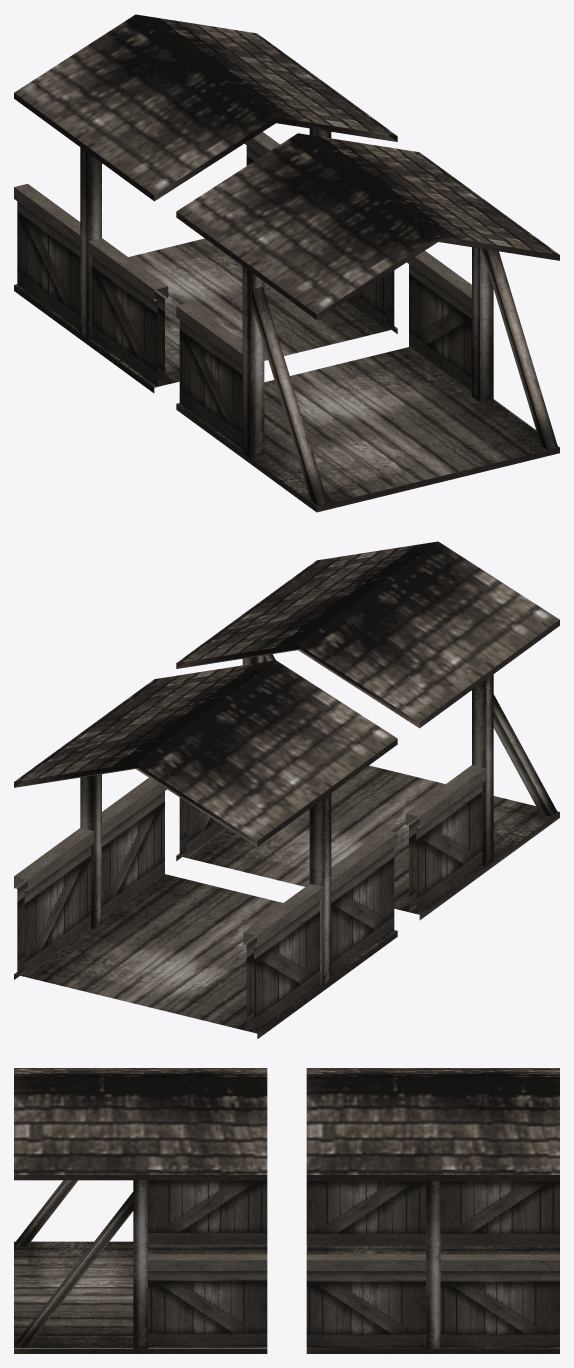
File: forsk.fbx
3 renders of one model, top to bottom at view 1: azimuth 30°, elevation 25°; view 2: azimuth 150°, elevation 25°; view 3: azimuth 270°, elevation 25°, orthographic. The views are drawn at different scales.
Parts seen in each view (by area): view 1: Cube.001, Cube.008; view 2: Cube.008, Cube.001; view 3: Cube.008, Cube.001.
Boxes of the visible parts, x1,y1,x2,y2 form: Cube.001: [176, 133, 559, 512]; Cube.008: [14, 14, 397, 393]; Cube.008: [14, 660, 397, 1038]; Cube.001: [176, 541, 559, 920]; Cube.008: [306, 1068, 559, 1353]; Cube.001: [14, 1068, 267, 1353].
Size of the model in its own units: 300 by 291 by 647.
